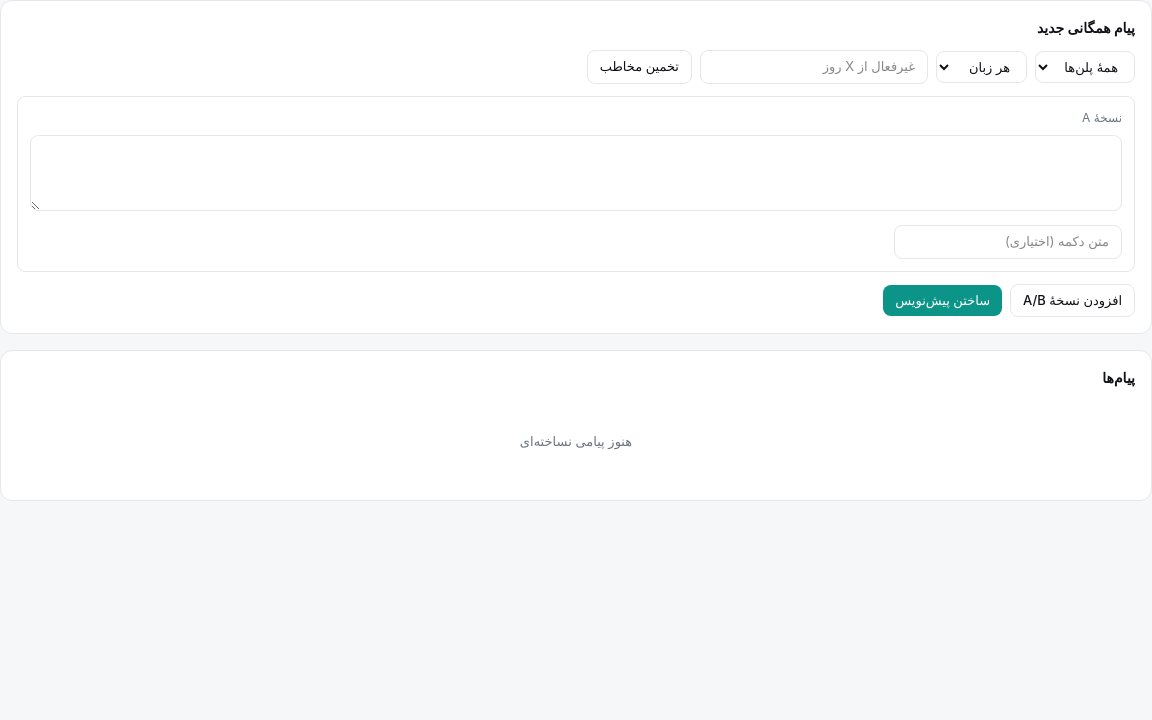
Scenario: broadcasts › refuses to create a broadcast with no text
The image size is (1152, 720).
Click the button "ساختن پیش‌نویس" at (943, 300), box [883, 284, 1002, 316]
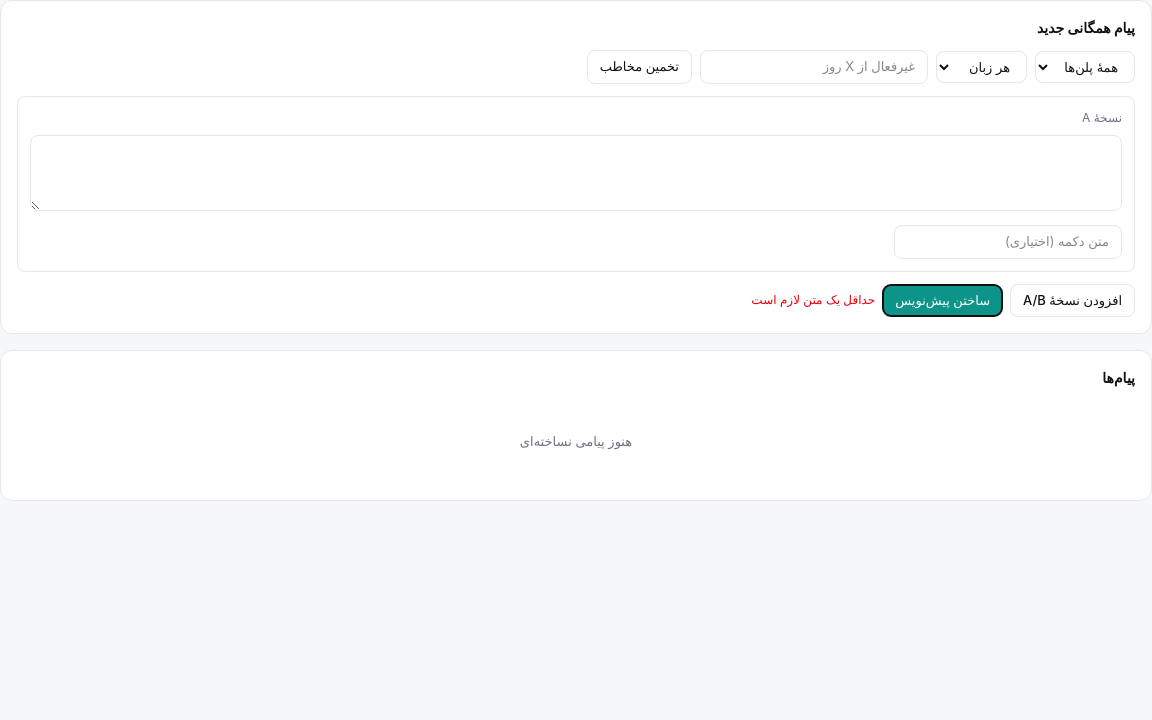
Expected: the text "حداقل یک متن لازم است" is shown, [751, 291, 875, 309]
